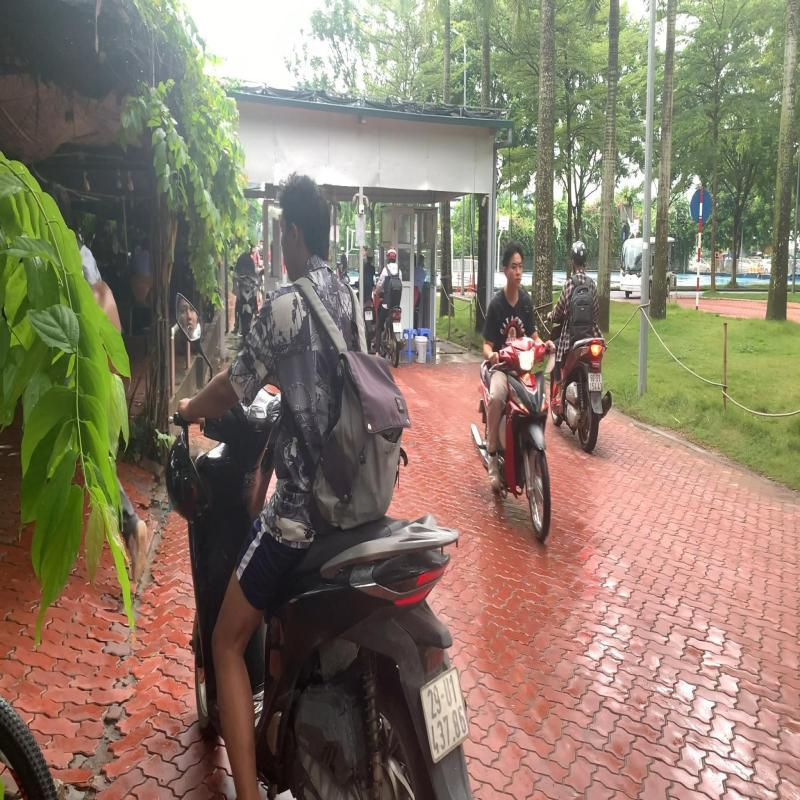nohelmet: (274, 164, 336, 286)
